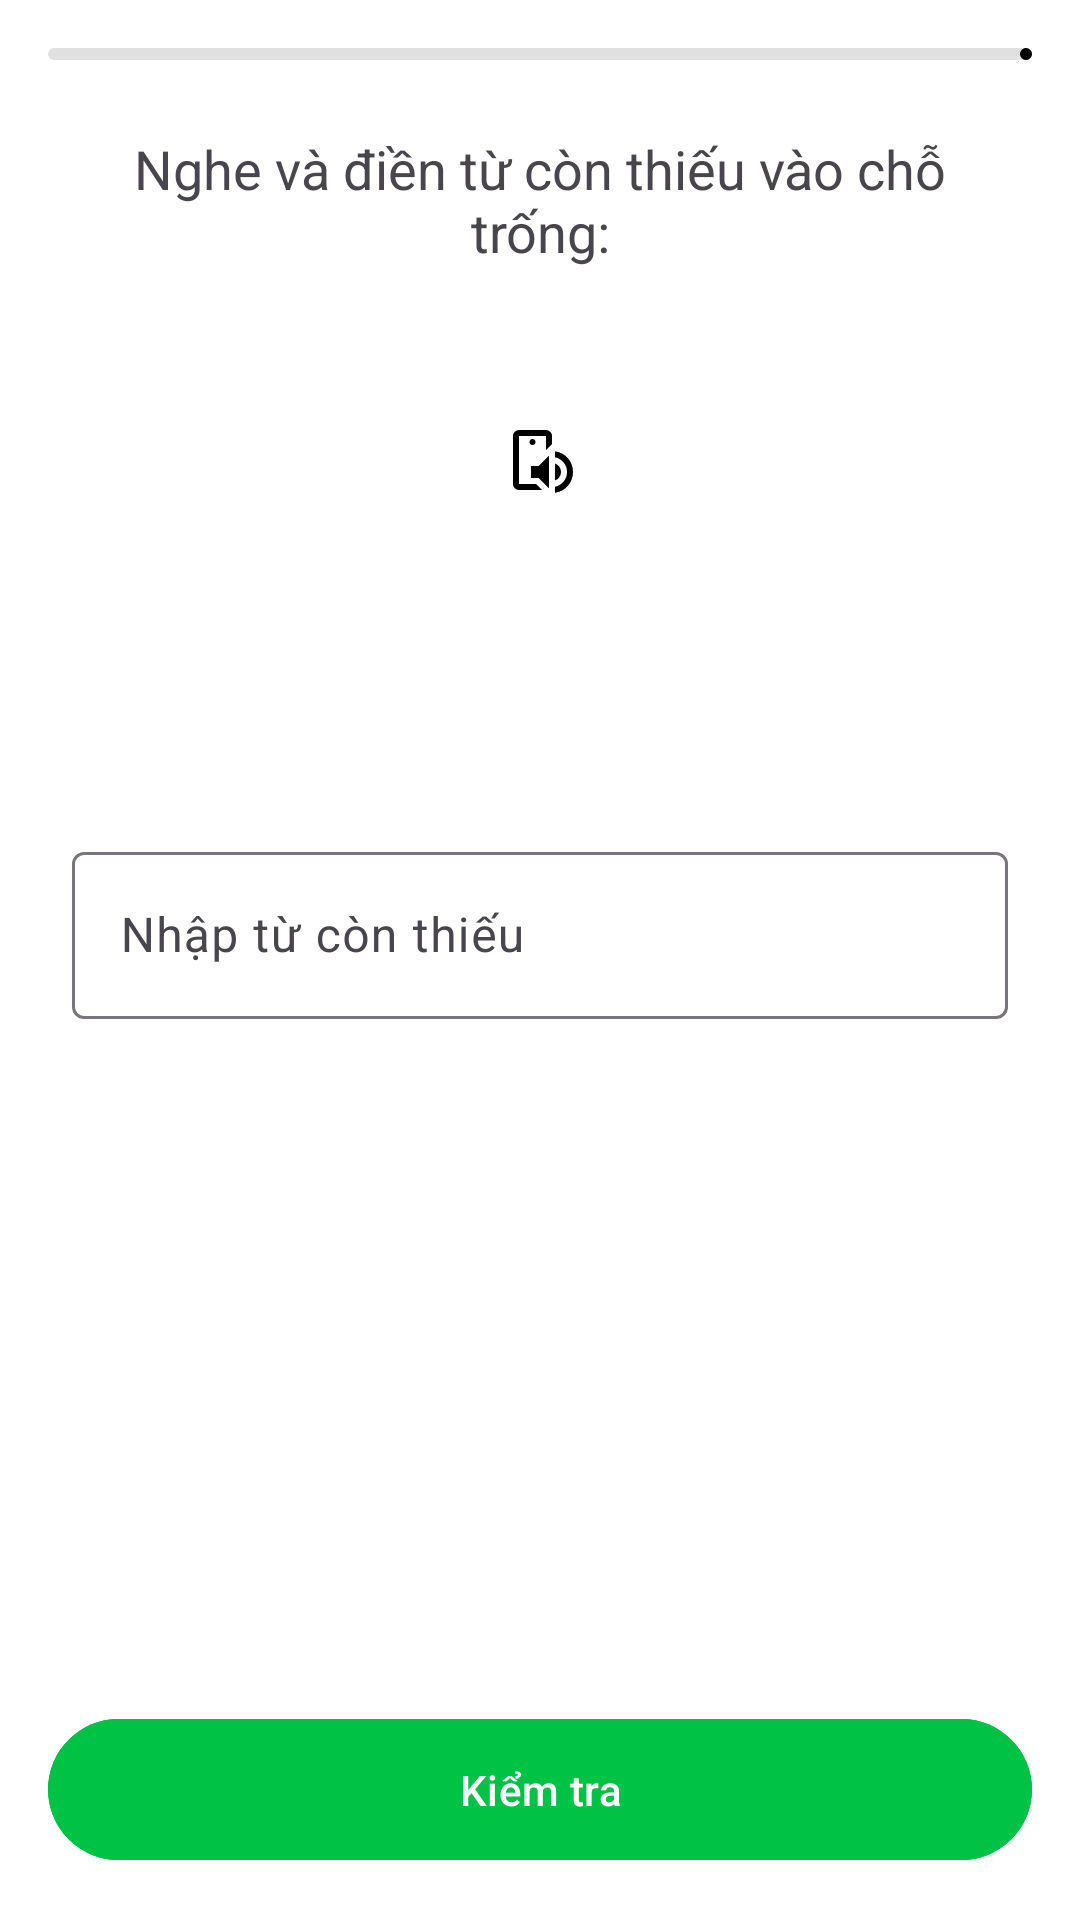

Where icons sit on this 1080 × 1920 app screen, as (x1, y1, x2, y2):
Phát âm: (513, 430, 573, 493)
